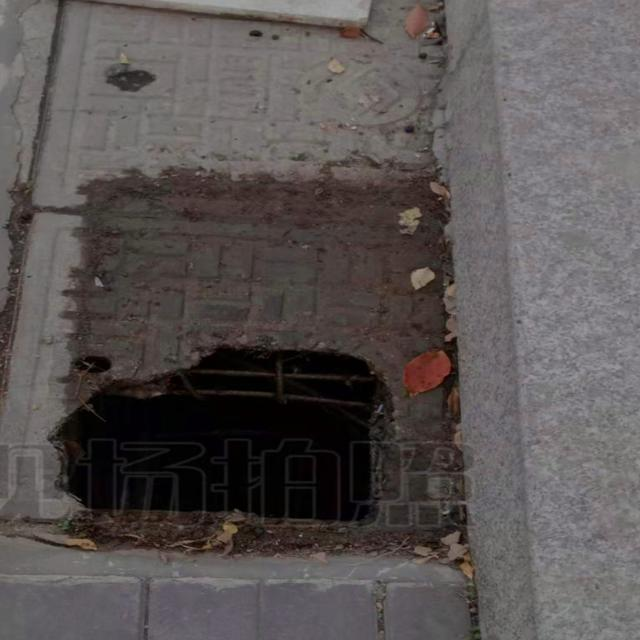broke: (0, 90, 522, 565)
